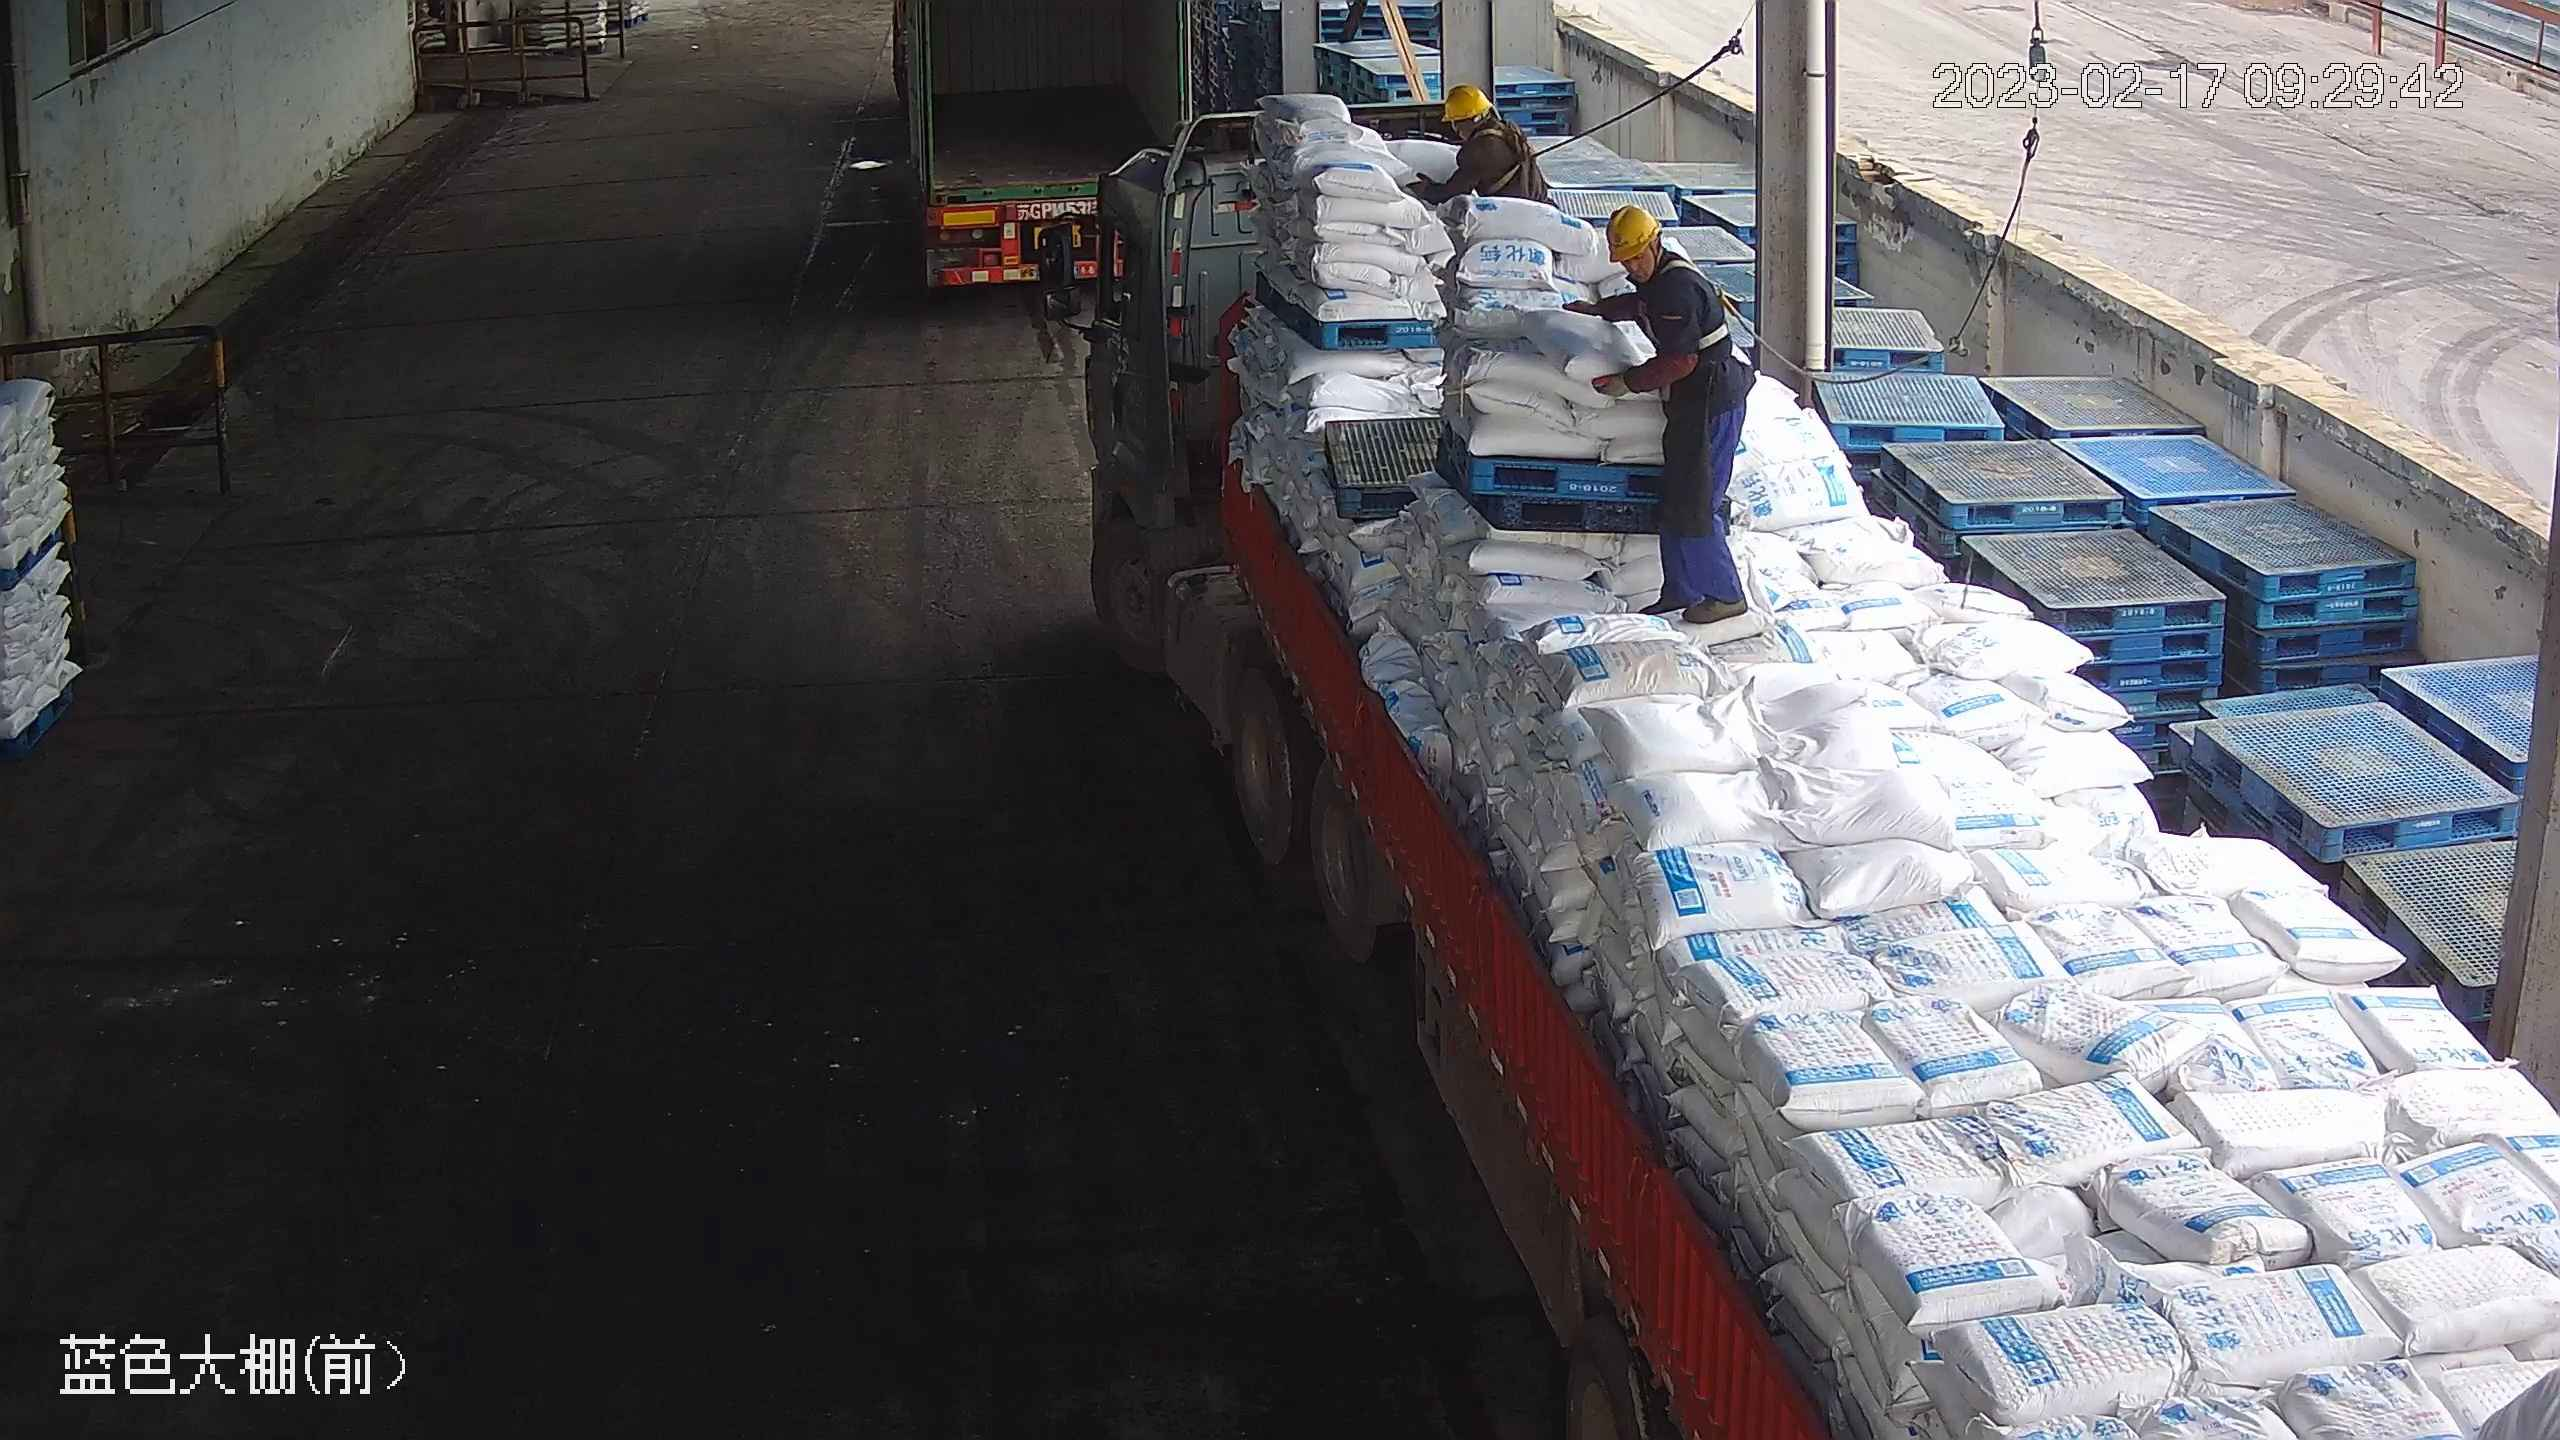belt: (1645, 249, 1762, 364), (1466, 125, 1552, 189)
head: (1586, 203, 1720, 347), (1417, 83, 1534, 178)
helmet: (1606, 203, 1664, 266), (1442, 86, 1493, 122)
people: (1557, 201, 1762, 625)
truck: (1034, 101, 2560, 1440), (891, 1, 1203, 301)
